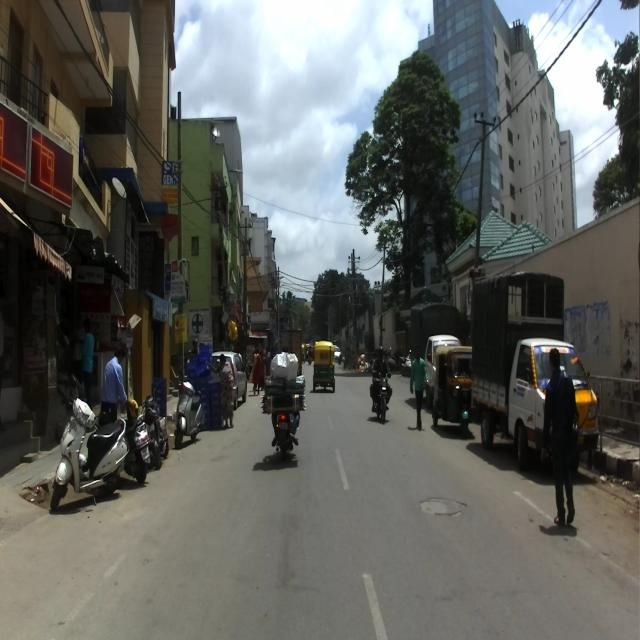autorickshaw: (431, 336, 477, 425)
motorcycle: (140, 380, 168, 469)
motorcycle_TVS: (368, 364, 391, 423)
scooter: (49, 373, 130, 510), (174, 368, 205, 449), (121, 414, 151, 484)
truck: (470, 271, 599, 472)
